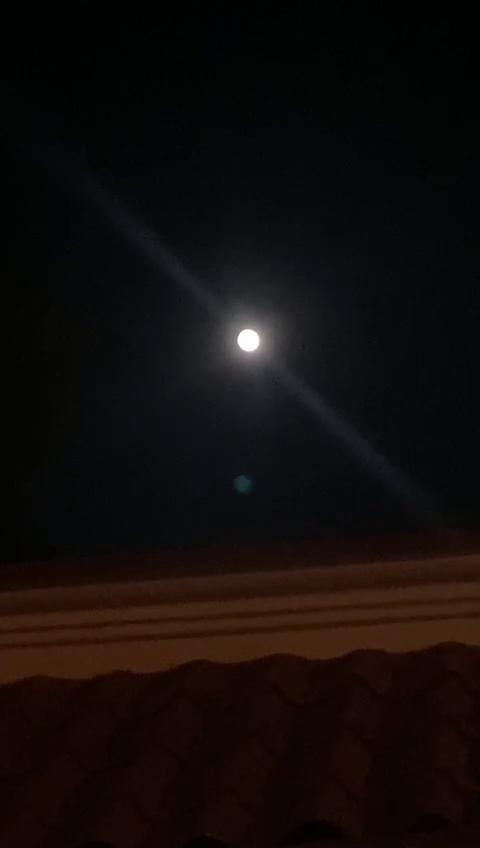moon: (239, 314, 270, 345)
